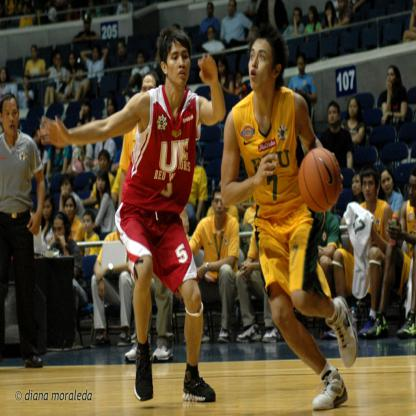Ball: (299, 148, 340, 214)
